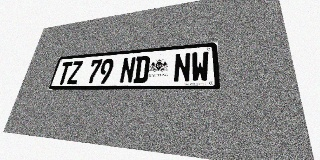7: (86, 59, 103, 84)
9: (97, 58, 115, 84)
D: (133, 55, 150, 83)
N: (173, 52, 191, 83), (119, 57, 136, 83)
T: (56, 61, 73, 85)
W: (191, 51, 209, 82)
Z: (66, 61, 83, 84)
